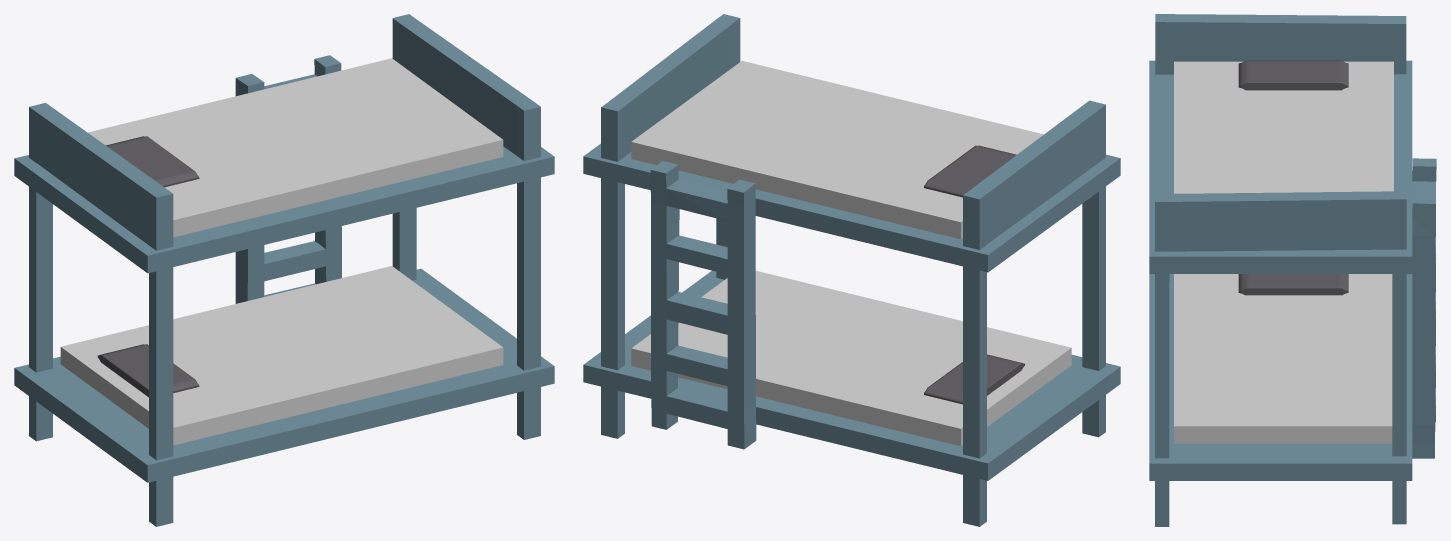
File: BunkBed.fbx
3 views of the same model, side by side, from view 1: azimuth 30°, elevation 25°; view 2: azimuth 150°, elevation 25°; view 3: azimuth 270°, elevation 25° (orthographic).
Parts seen in each view (by area): view 1: Mattress_1_Cube.001; view 2: Mattress_1_Cube.001; view 3: Mattress_1_Cube.001.
Part boxes in pixels (x1,y1,x2,y2): Mattress_1_Cube.001: [14, 14, 554, 526]; Mattress_1_Cube.001: [583, 14, 1120, 526]; Mattress_1_Cube.001: [1149, 14, 1436, 526].
Bounding box in the file's own units: 194 × 151 × 120.
